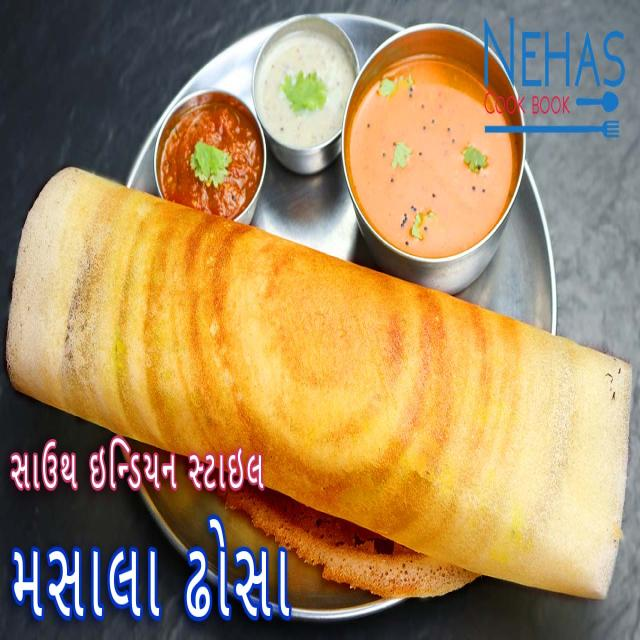DOSA: (4, 164, 632, 596)
